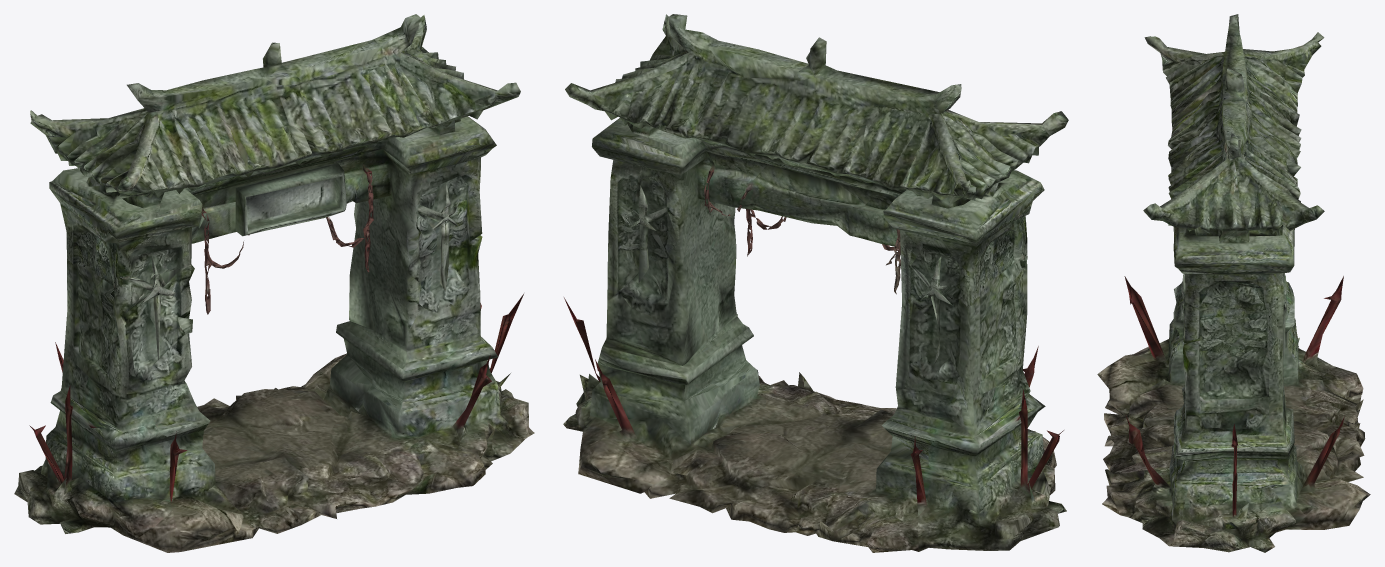
File: tomb_gate.lod1.glb
3 views of the same model, side by side, from view 1: azimuth 30°, elevation 25°; view 2: azimuth 150°, elevation 25°; view 3: azimuth 270°, elevation 25° (orthographic). The views are drawn at different scales.
Parts seen in each view (by area): view 1: clean; view 2: clean; view 3: clean.
Boxes of the visible parts, left/top/right/bottom form: clean: left=14, top=14, right=534, bottom=552; clean: left=563, top=14, right=1068, bottom=552; clean: left=1097, top=14, right=1370, bottom=552.
Bounding box in the file's own units: 181 × 148 × 96.06.
Materials: 1 (1 with a texture image).
